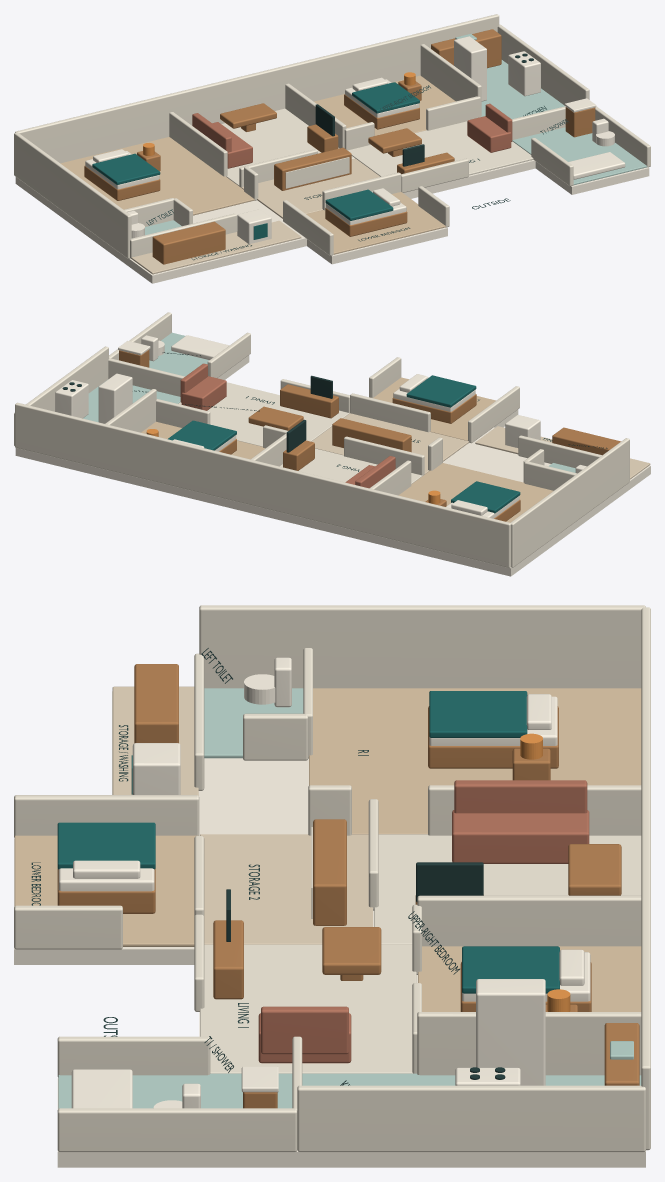
File: sketch-home.glb
3 renders of one model, top to bottom at view 1: azimuth 30°, elevation 25°; view 2: azimuth 150°, elevation 25°; view 3: azimuth 270°, elevation 25°, orthographic. The views are drawn at different scales.
Parts seen in each view (by area): view 1: Illustrative partition 0, Approximate sketch footprint, Illustrative partition 1, bedroom_upper_left floor, living1 floor, living2 floor, bedroom_lower_center floor, bathroom floor, storage floor, Laundry cupboard, kitchen floor, Illustrative partition 15 (+46 smaller); view 2: Illustrative partition 0, Approximate sketch footprint, Illustrative partition 1, living1 floor, bedroom_upper_left floor, storage floor, Illustrative partition 8, Illustrative partition 15, Storage 2 cabinet, Illustrative partition 7, Illustrative partition 16, living2 floor (+35 smaller); view 3: Illustrative partition 1, bedroom_upper_left floor, Illustrative partition 15, Approximate sketch footprint, living1 floor, storage floor, Illustrative partition 11, Illustrative partition 17, living2 floor, bedroom_lower_center floor, Illustrative partition 14, Kitchen fridge (+46 smaller).
Part boxes in pixels (box(x1,y1,x2,y2)): Illustrative partition 0: box(15, 14, 499, 163); Approximate sketch footprint: box(15, 160, 649, 283); Illustrative partition 1: box(14, 132, 131, 258); bedroom_upper_left floor: box(60, 137, 254, 215); living1 floor: box(348, 121, 533, 176); living2 floor: box(221, 108, 355, 185); bedroom_lower_center floor: box(306, 192, 445, 254); bathroom floor: box(512, 127, 647, 184); storage floor: box(241, 158, 380, 218); Laundry cupboard: box(152, 221, 225, 264); kitchen floor: box(481, 60, 564, 119); Illustrative partition 15: box(497, 24, 589, 105); Illustrative partition 0: box(15, 402, 510, 567); Approximate sketch footprint: box(15, 355, 650, 576); Illustrative partition 1: box(510, 438, 629, 567); living1 floor: box(178, 382, 349, 446); bedroom_upper_left floor: box(398, 463, 553, 522); storage floor: box(311, 413, 468, 474); Illustrative partition 8: box(350, 393, 430, 432); Illustrative partition 15: box(14, 346, 108, 445); Storage 2 cabinet: box(332, 418, 411, 452); Illustrative partition 7: box(344, 436, 424, 475); Illustrative partition 16: box(108, 358, 184, 396); living2 floor: box(280, 448, 422, 483); Illustrative partition 1: box(199, 605, 645, 688); bedroom_upper_left floor: box(309, 688, 641, 834); Illustrative partition 15: box(297, 1085, 645, 1152); Approximate sketch footprint: box(14, 691, 645, 1167); living1 floor: box(200, 944, 416, 1073); storage floor: box(200, 834, 372, 944); Illustrative partition 11: box(417, 895, 641, 946); Illustrative partition 17: box(57, 1108, 297, 1152); living2 floor: box(374, 834, 641, 944); bedroom_lower_center floor: box(14, 835, 198, 946); Illustrative partition 14: box(417, 1012, 641, 1075); Kitchen fridge: box(476, 979, 545, 1085).
Size of the model in its own units: 10.09 by 1.28 by 5.85.
